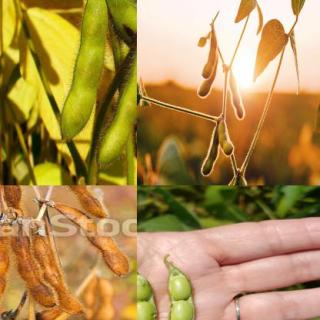soya: (59, 0, 107, 143), (96, 19, 136, 170), (50, 204, 132, 276), (28, 232, 88, 316), (10, 230, 55, 308), (160, 266, 196, 320), (60, 186, 107, 218), (105, 0, 136, 40), (137, 258, 157, 320), (0, 224, 11, 314), (200, 125, 219, 177), (201, 30, 217, 77), (229, 71, 244, 119), (218, 120, 234, 156), (196, 79, 217, 99), (2, 186, 20, 208), (238, 176, 250, 185), (227, 178, 240, 185)
